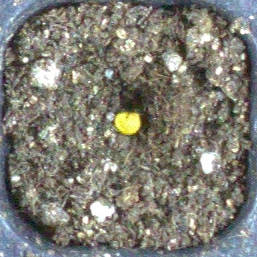pepper seed: (43, 43, 186, 179)
